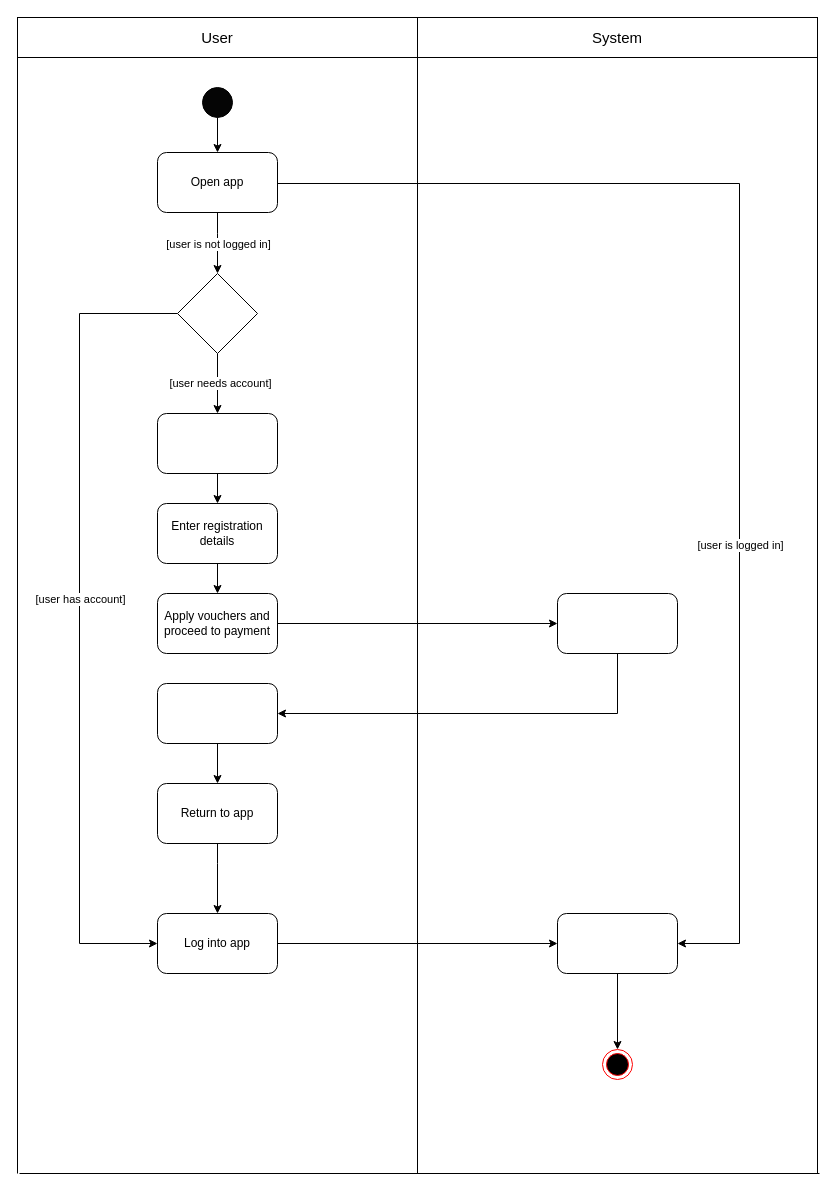
Image size: 838x1192. Some labels were removed from this diagram. Each missing label, with the centre of its shape:
Accept payment and send confirmation email: point (617, 623)
Click to register for account: point (217, 443)
Complete account creation through confirmation email: point (217, 713)
Display home page: point (617, 943)
